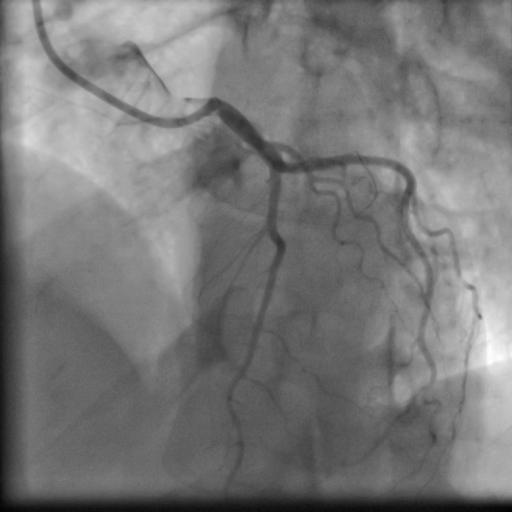Stenosis: (268, 164, 282, 202)
